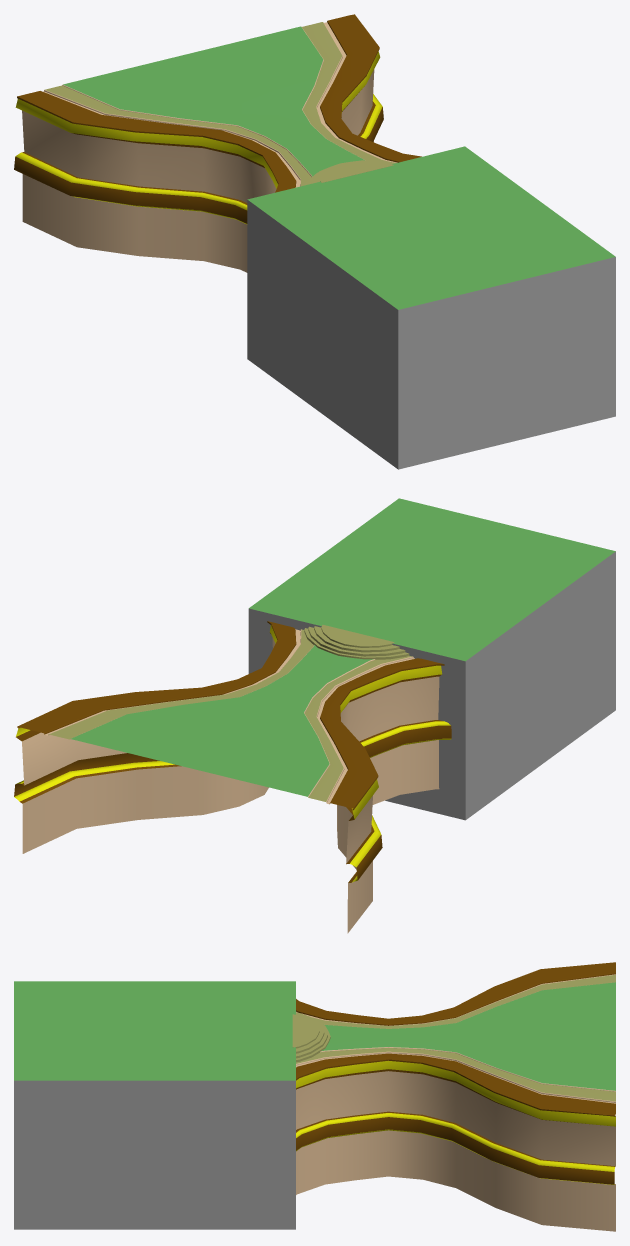
The model's file is Floor001.fbx.
3 renders of one model, top to bottom at view 1: azimuth 30°, elevation 25°; view 2: azimuth 150°, elevation 25°; view 3: azimuth 270°, elevation 25°, orthographic. The views are drawn at different scales.
Parts seen in each view (by area): view 1: Respawn, Floor, Bottomstep3; view 2: Respawn, Floor, Bottomstep3; view 3: Respawn, Floor, Bottomstep3.
Part boxes in pixels (box(x1,y1,x2,y2)): Respawn: box(247, 146, 615, 469); Floor: box(14, 14, 421, 272); Bottomstep3: box(320, 161, 393, 182); Respawn: box(248, 498, 615, 820); Floor: box(14, 621, 451, 933); Bottomstep3: box(321, 625, 394, 647); Respawn: box(14, 981, 295, 1229); Floor: box(296, 962, 615, 1231); Bottomstep3: box(292, 1014, 319, 1048).
Size of the model in its own units: 35.75 by 15.82 by 57.87.
